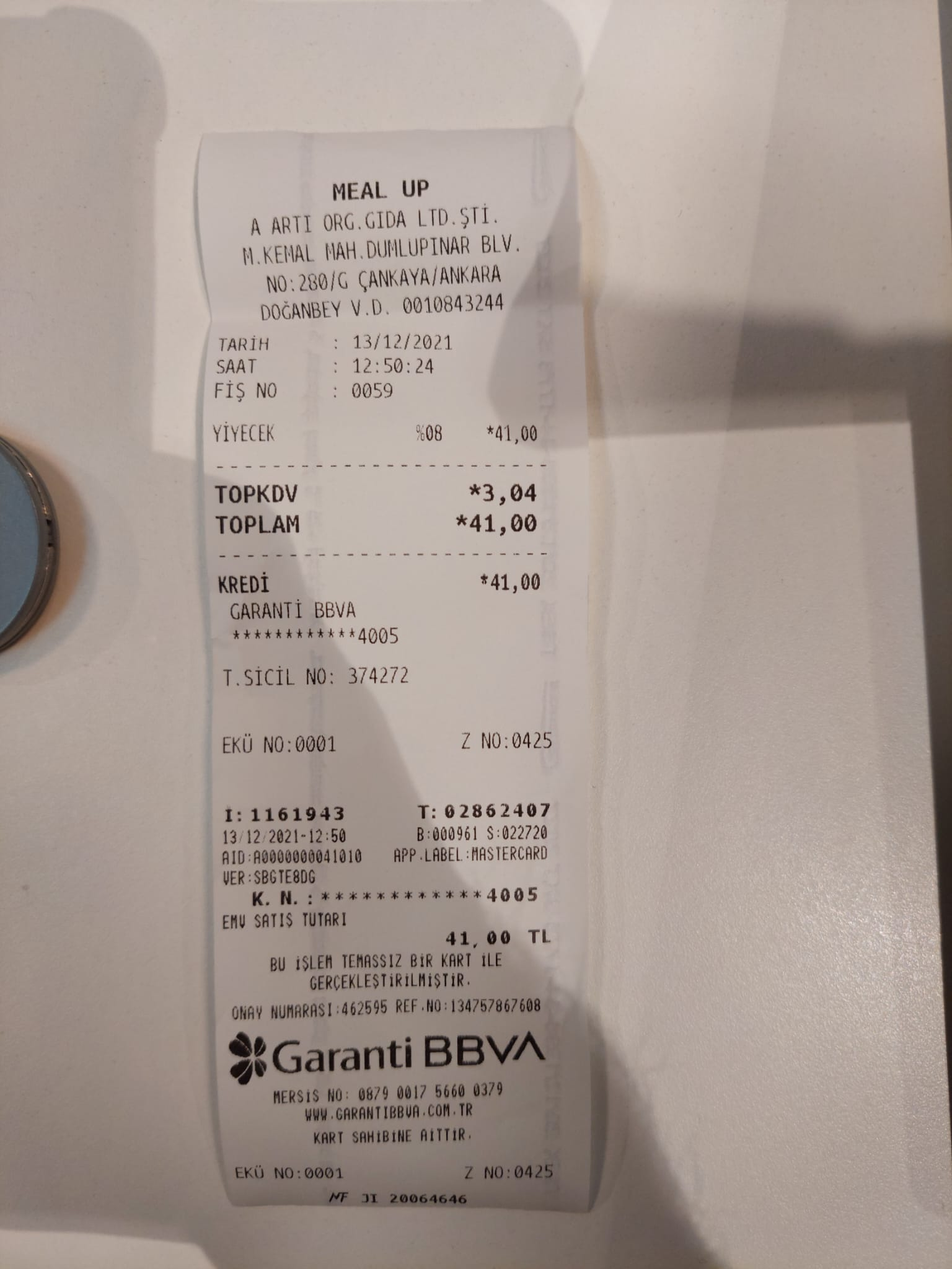date: (467, 503, 545, 540)
price: (347, 329, 456, 354)
workplace: (237, 171, 527, 295)
